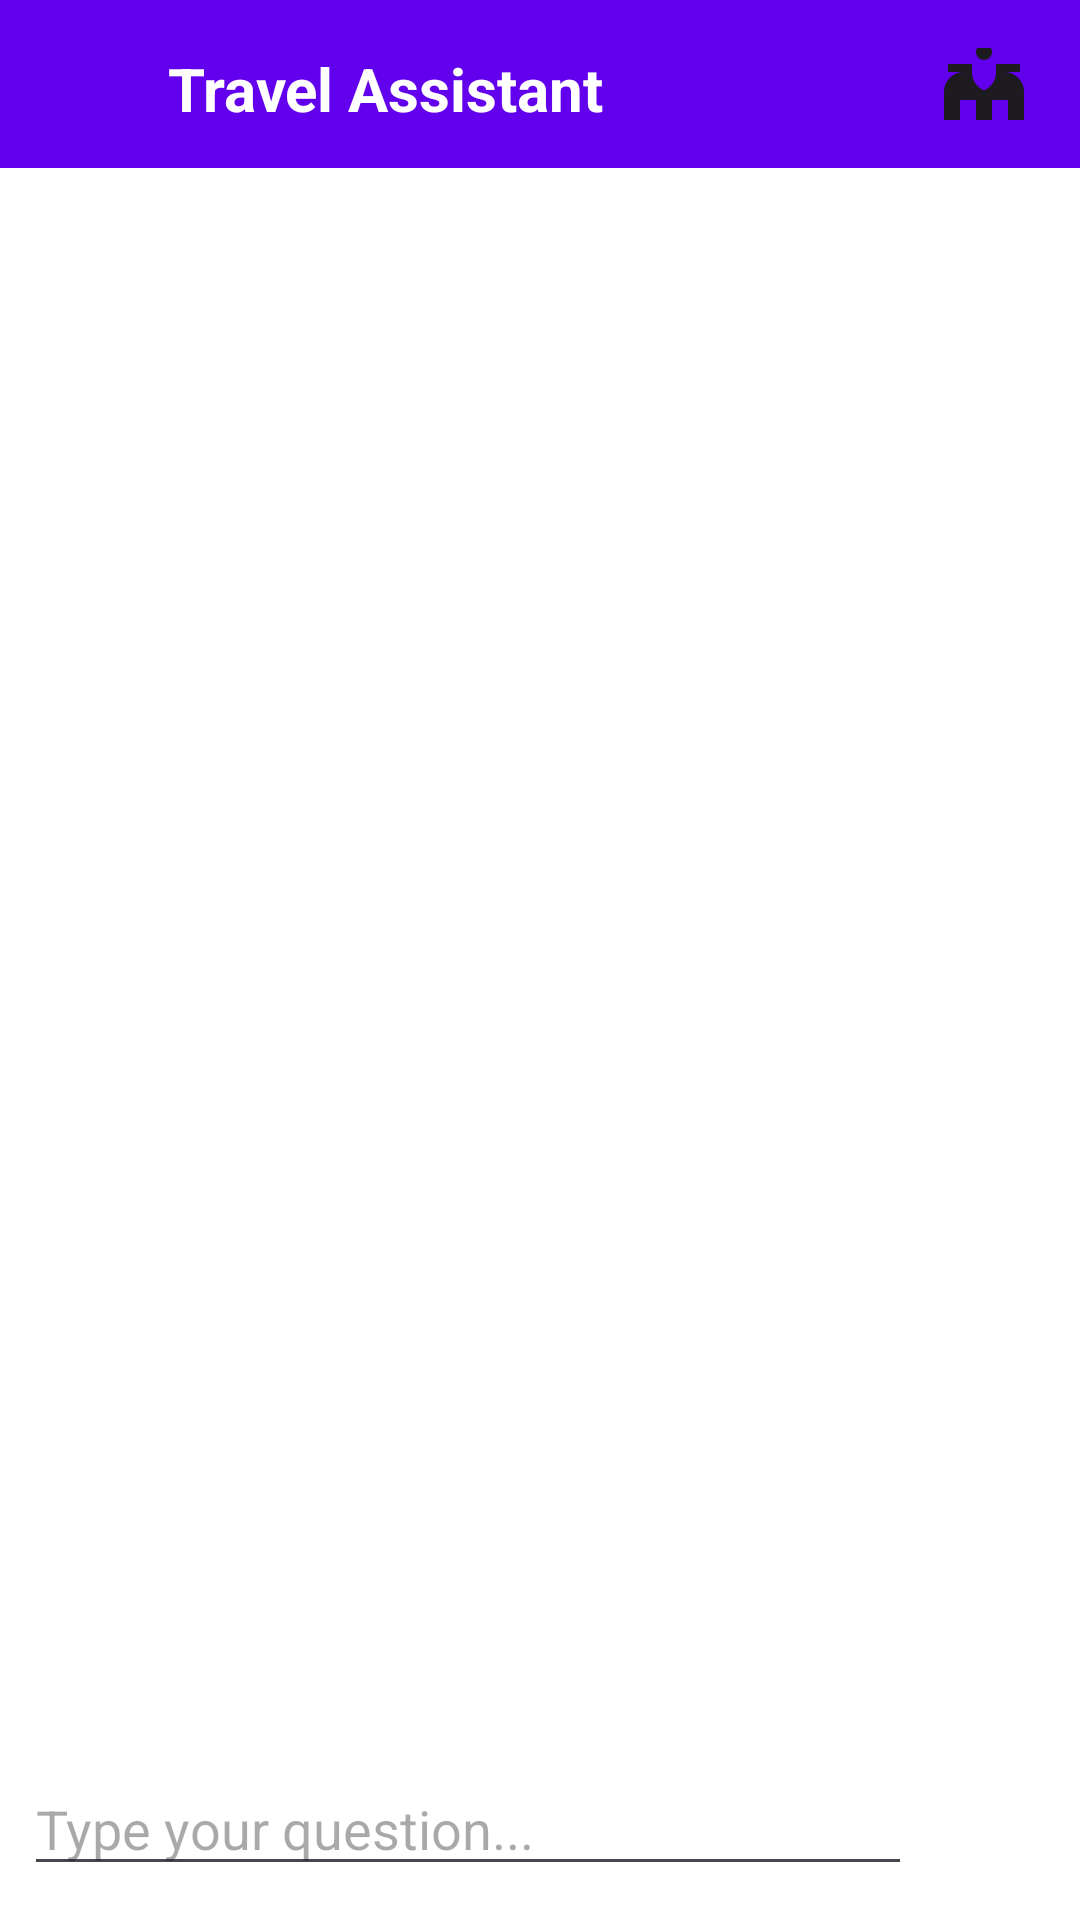

Icons on this 1080x1920 Android screen, each with its box as (x1, y1, x2, y2):
bot: (944, 48, 1024, 120)
